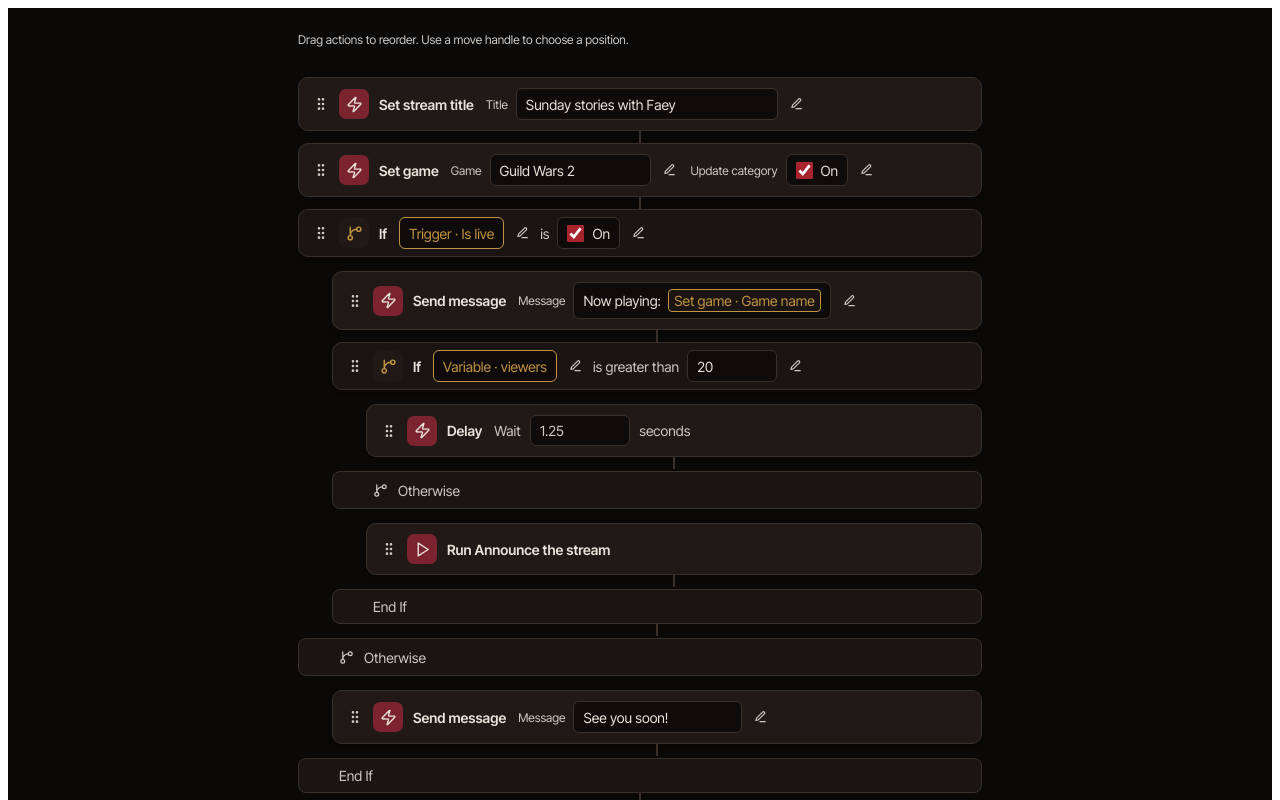
Test: WorkflowCanvas › retains the entered draft and reports a rejected edit
Replace the text in the field named "Title" with "Try again" at (647, 104), box top-left (516, 88), bottom-right (778, 120)
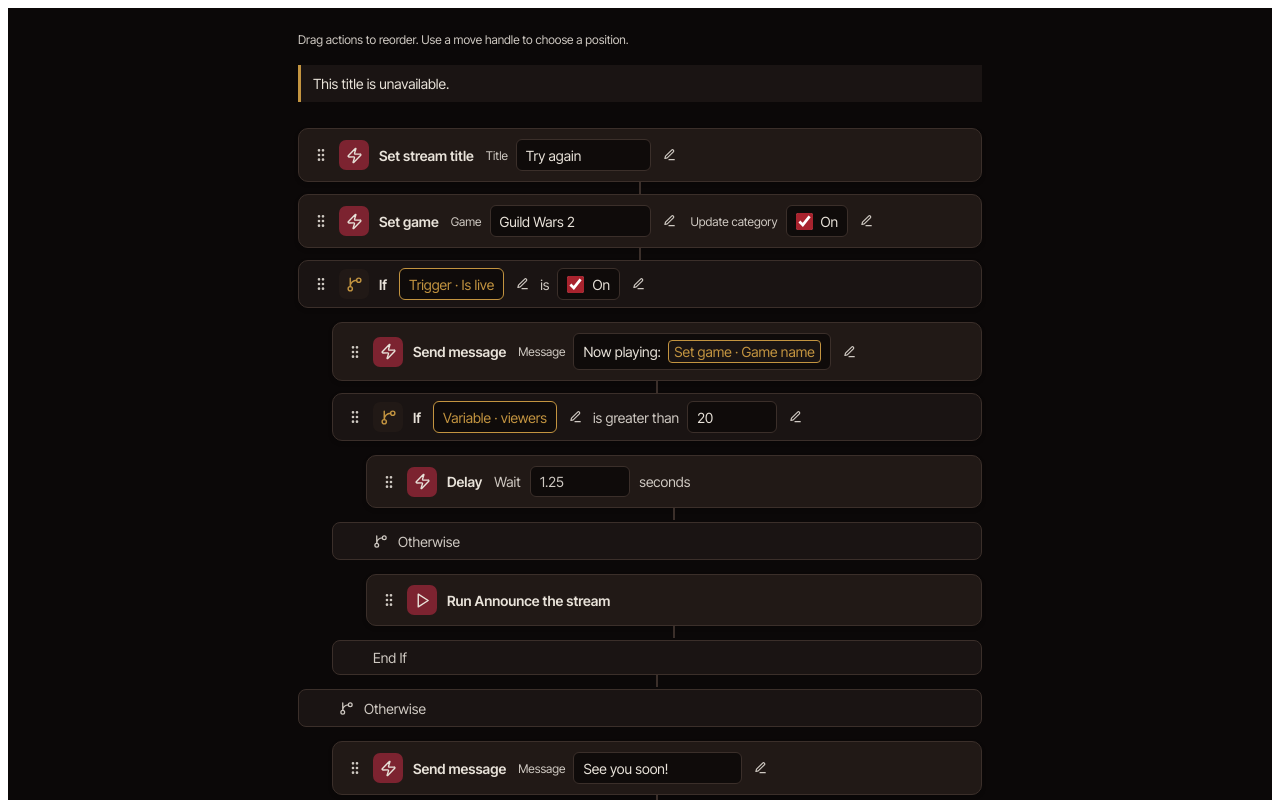
Check: the field named "Title" is enabled, box top-left (516, 139), bottom-right (651, 171)
Check: the message reads "This title is unavailable.", box top-left (313, 75), bottom-right (449, 92)
